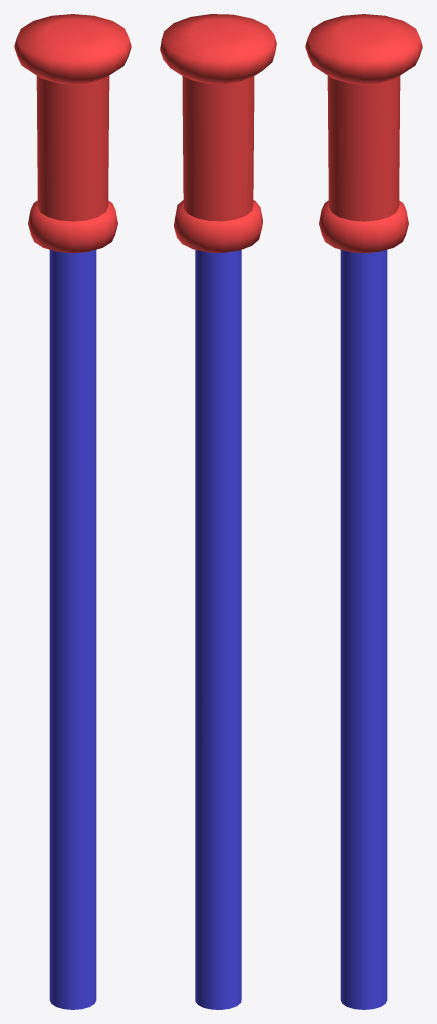
The model's file is LongLever.FBX.
The picture shows the model from 3 angles, left to right: view 1: azimuth 90°, elevation 25°; view 2: azimuth 210°, elevation 25°; view 3: azimuth 270°, elevation 25°; orthographic projection.
Visible parts, largest first — view 1: Cylinder001; view 2: Cylinder001; view 3: Cylinder001.
Part boxes in pixels (x1,y1,x2,y2): Cylinder001: [14, 14, 131, 1009]; Cylinder001: [160, 14, 276, 1009]; Cylinder001: [305, 14, 422, 1009].
Size of the model in its own units: 11.28 by 102 by 11.28.
